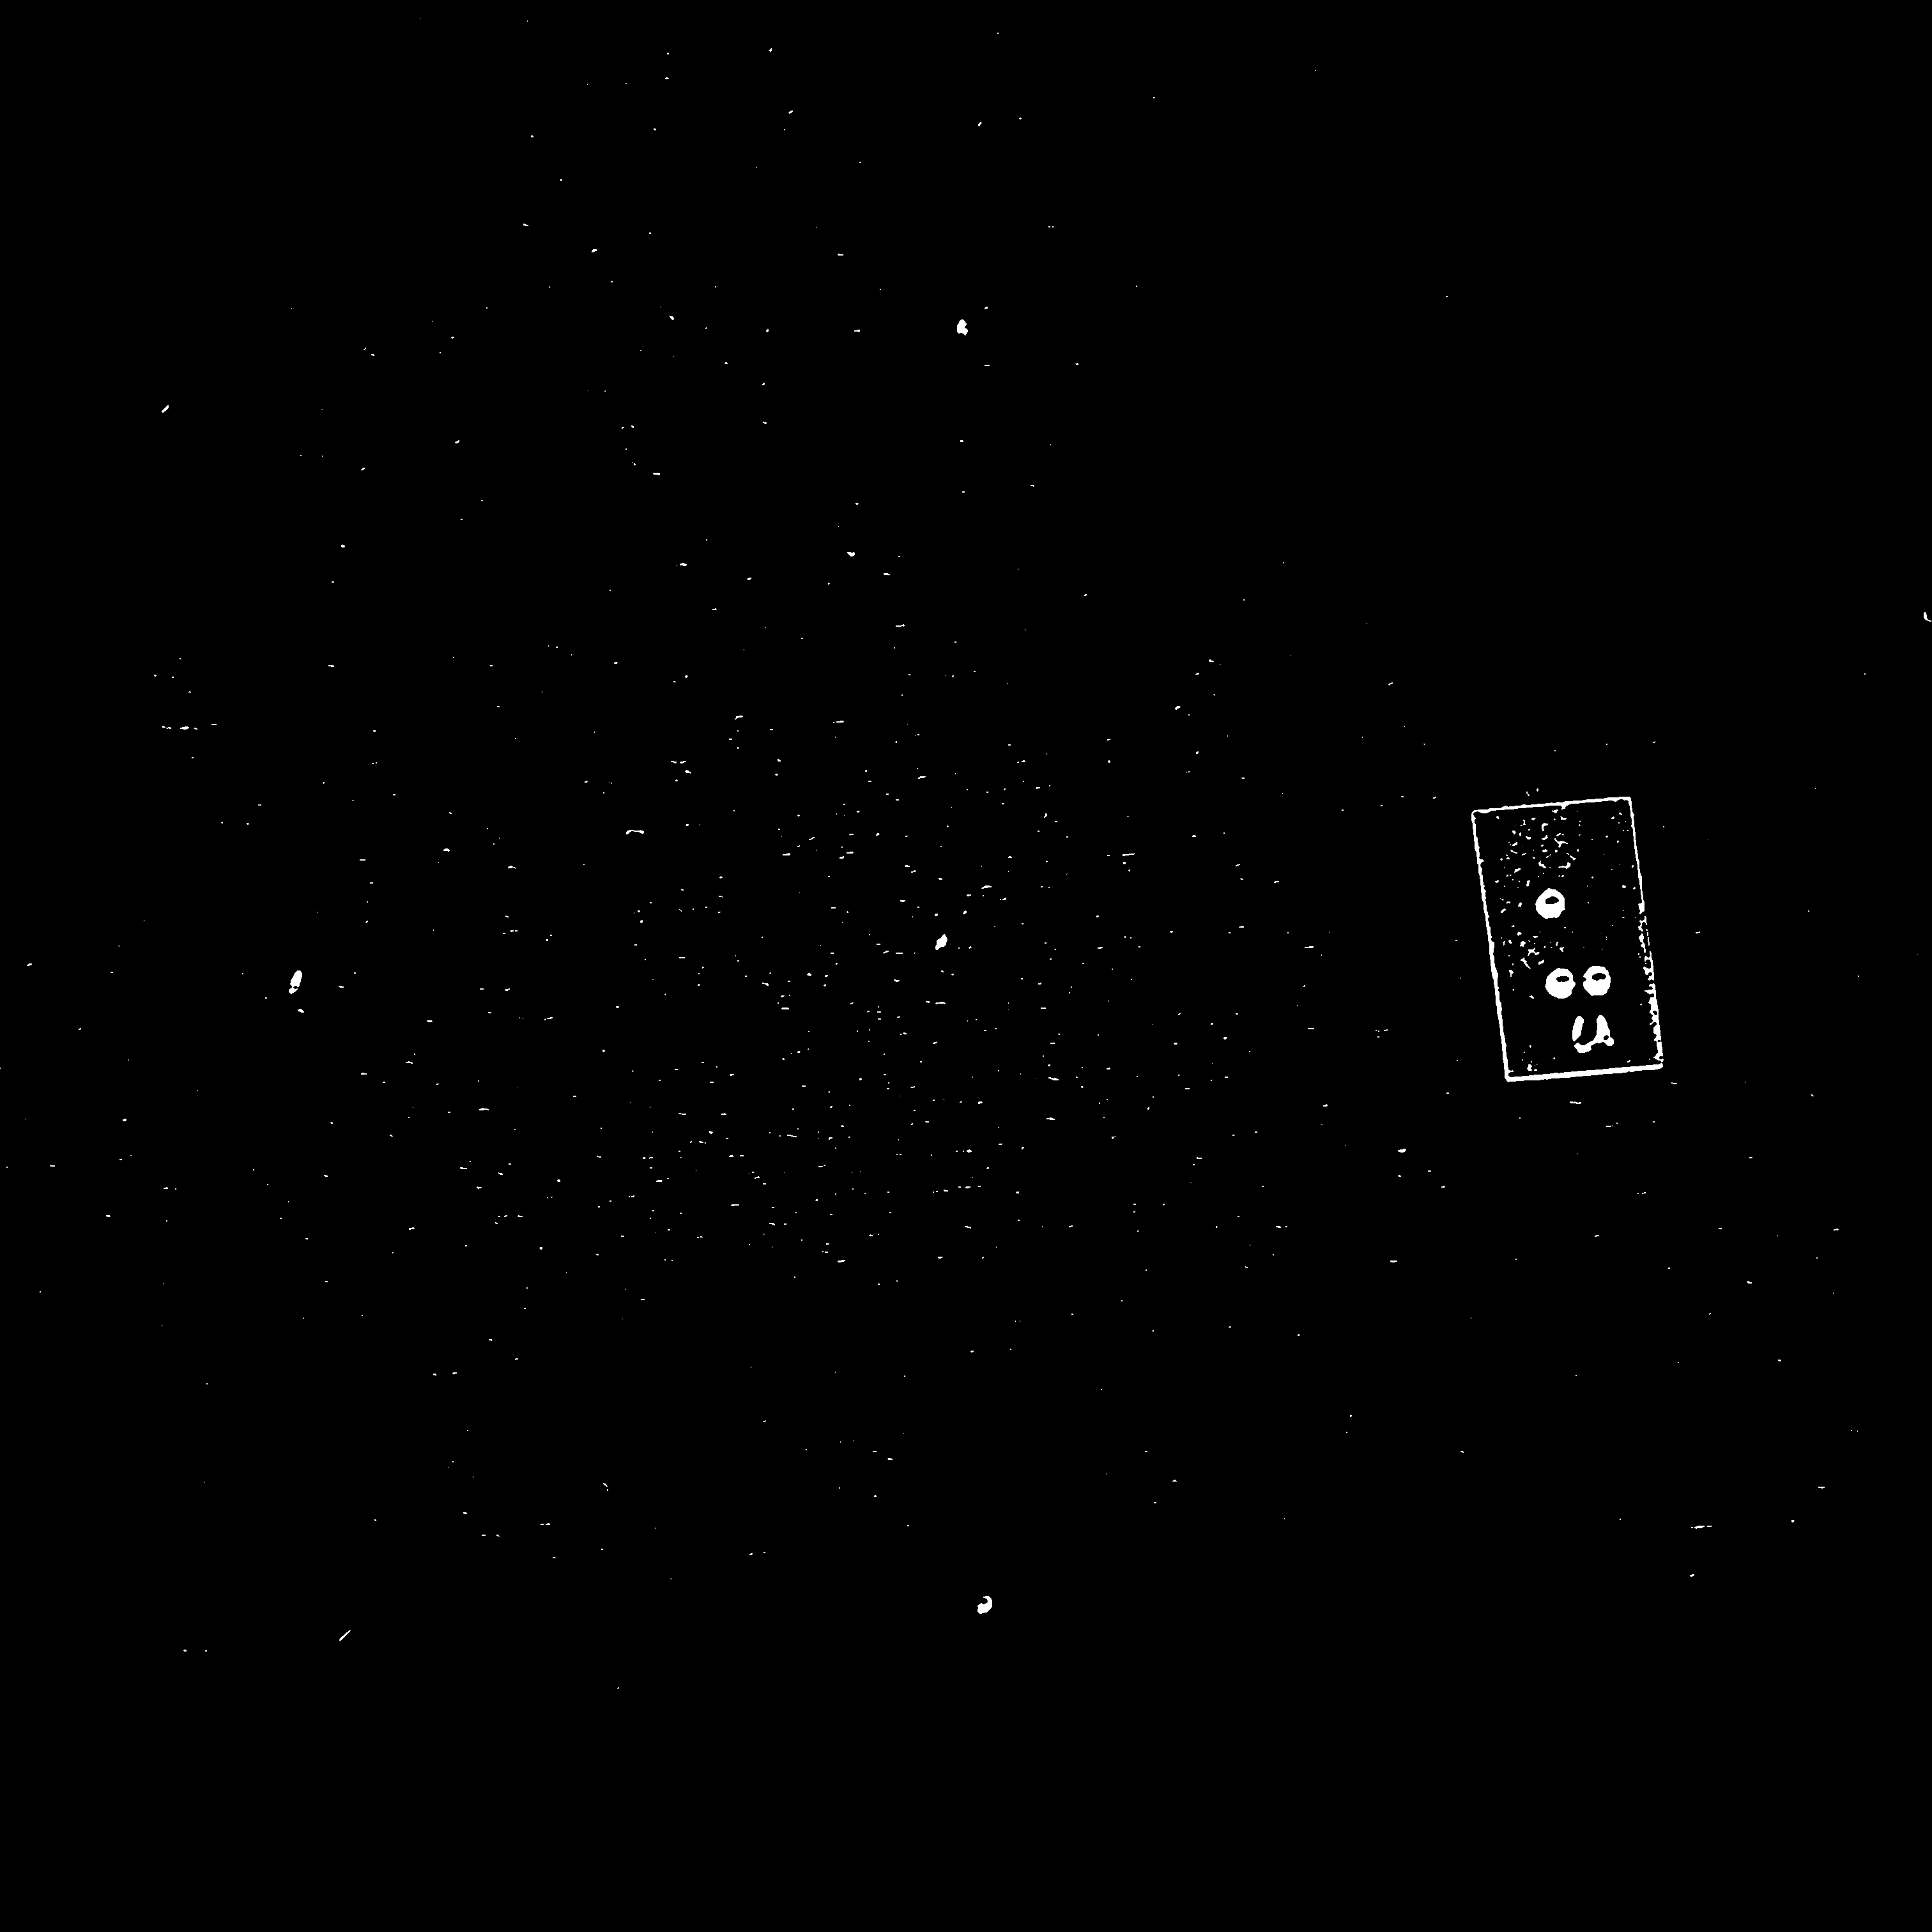u: (1526, 878, 1633, 1015)
